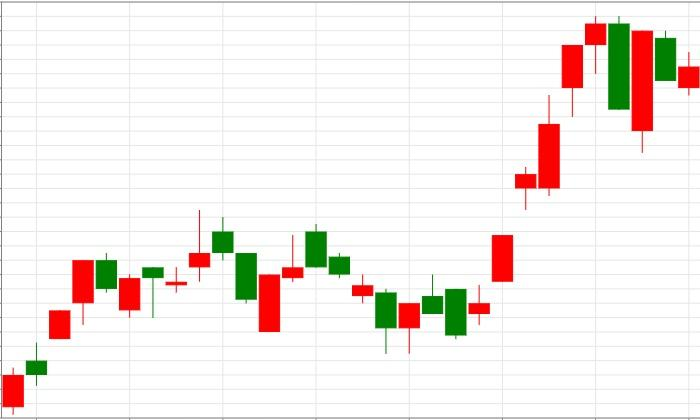bearish_engulfing_fall: (468, 16, 629, 325)
hanging_man_fall: (469, 15, 606, 325)
